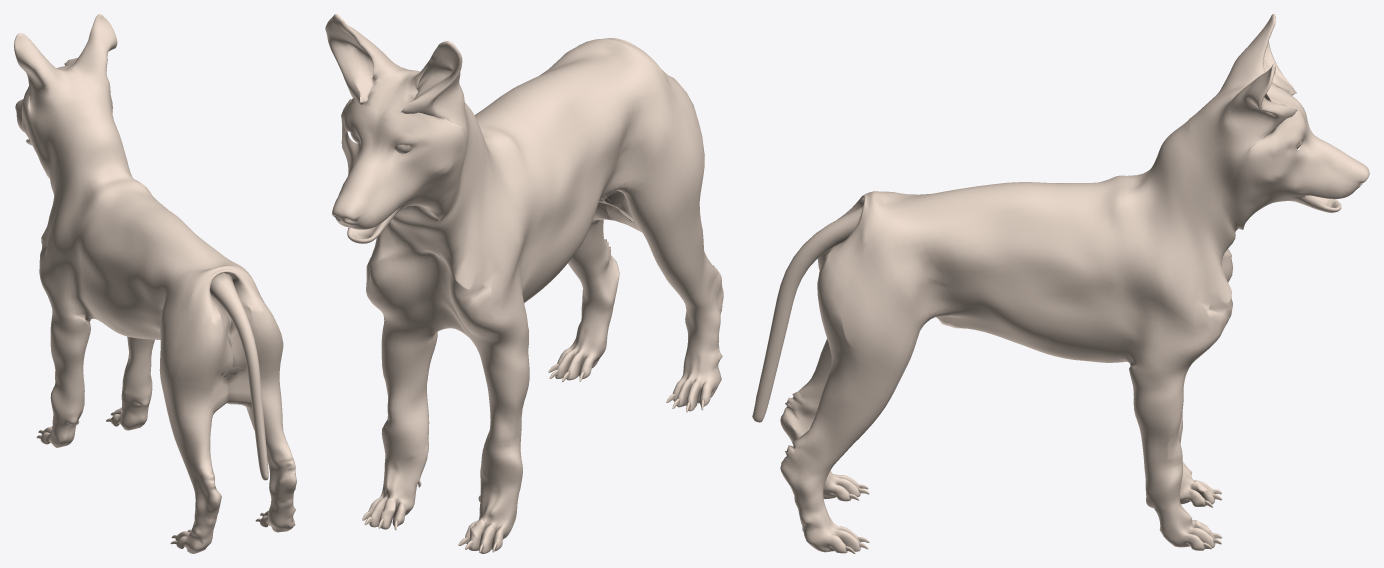
The model's file is integumentary.glb.
3 renders of one model, left to right at view 1: azimuth 30°, elevation 25°; view 2: azimuth 150°, elevation 25°; view 3: azimuth 270°, elevation 25°, orthographic. The views are drawn at different scales.
Visible parts, largest first — view 1: dog_integumentary_skin; view 2: dog_integumentary_skin; view 3: dog_integumentary_skin.
Part boxes in pixels (box(x1,y1,x2,y2)): dog_integumentary_skin: box(14, 14, 296, 553); dog_integumentary_skin: box(325, 14, 723, 553); dog_integumentary_skin: box(752, 14, 1369, 553).
Bounding box in the file's own units: 0.2184 × 0.7201 × 0.8315.
